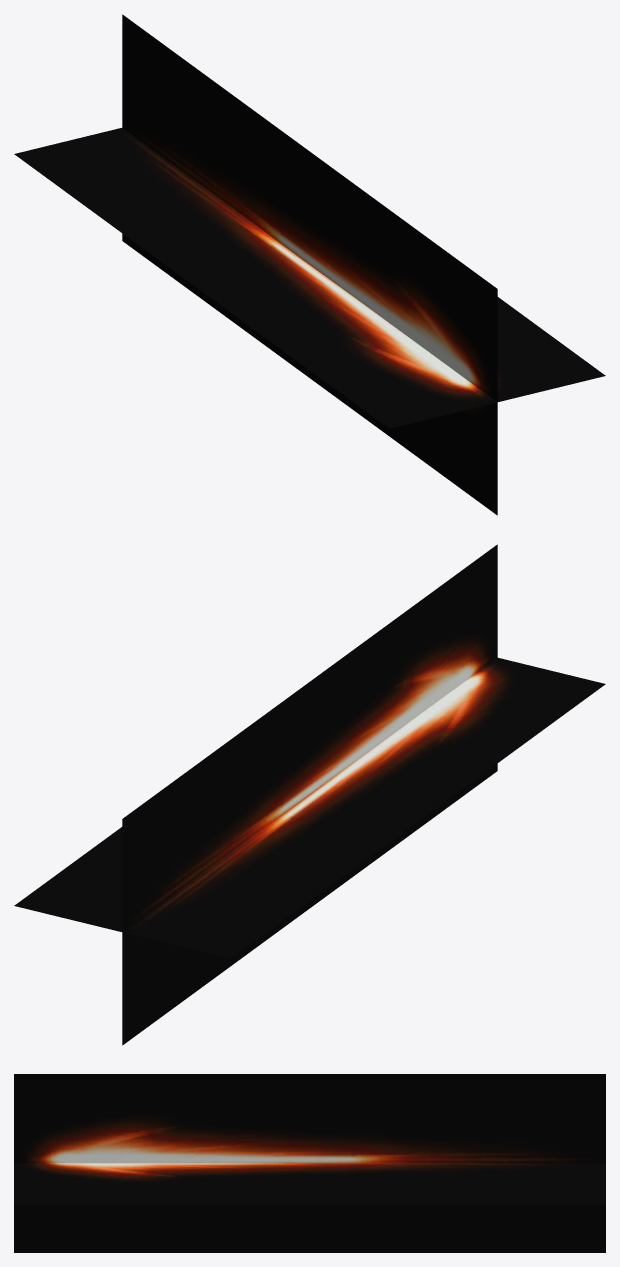
File: Effect_1061_ci.fbx
The picture shows the model from 3 angles, top to bottom: view 1: azimuth 30°, elevation 25°; view 2: azimuth 150°, elevation 25°; view 3: azimuth 270°, elevation 25°; orthographic projection. The views are drawn at different scales.
Parts seen in each view (by area): view 1: Effect_1061_ci; view 2: Effect_1061_ci; view 3: Effect_1061_ci.
Boxes of the visible parts, x1,y1,x2,y2 form: Effect_1061_ci: (14,14,605,515); Effect_1061_ci: (14,544,605,1045); Effect_1061_ci: (14,1074,605,1252).
Bounding box in the file's own units: 2 × 2 × 6.
1 material, 1 textured.
